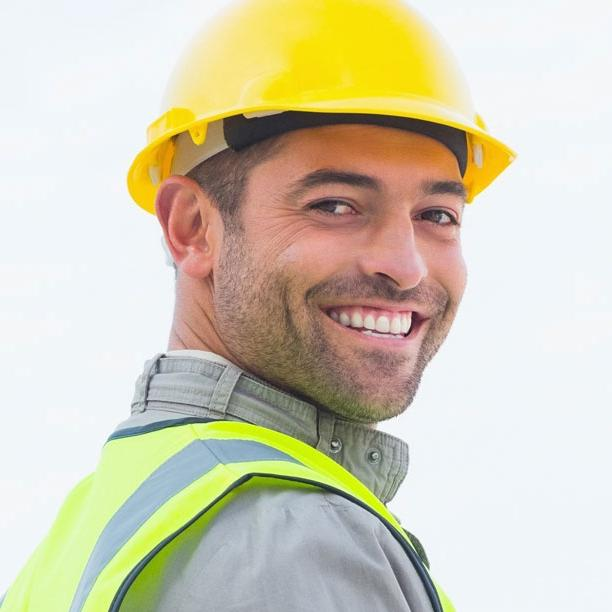helmet: (125, 0, 523, 215)
wear: (0, 431, 463, 611)
